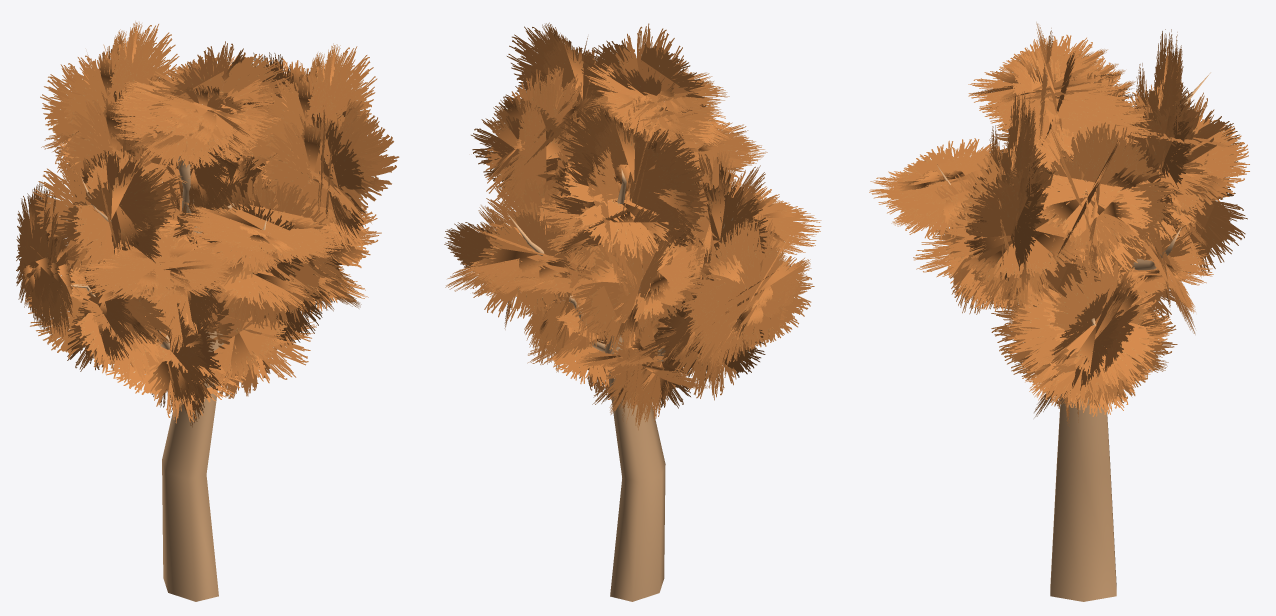
Rendered from Envi_Tree02.FBX.
The picture shows the model from 3 angles, left to right: view 1: azimuth 30°, elevation 25°; view 2: azimuth 150°, elevation 25°; view 3: azimuth 270°, elevation 25°; orthographic projection. The views are drawn at different scales.
Parts seen in each view (by area): view 1: Envi_Tree023; view 2: Envi_Tree023; view 3: Envi_Tree023.
Boxes of the visible parts, x1,y1,x2,y2 form: Envi_Tree023: (16,21,399,601); Envi_Tree023: (444,22,821,601); Envi_Tree023: (869,22,1249,601).
Bounding box in the file's own units: 261 × 400 × 253.
